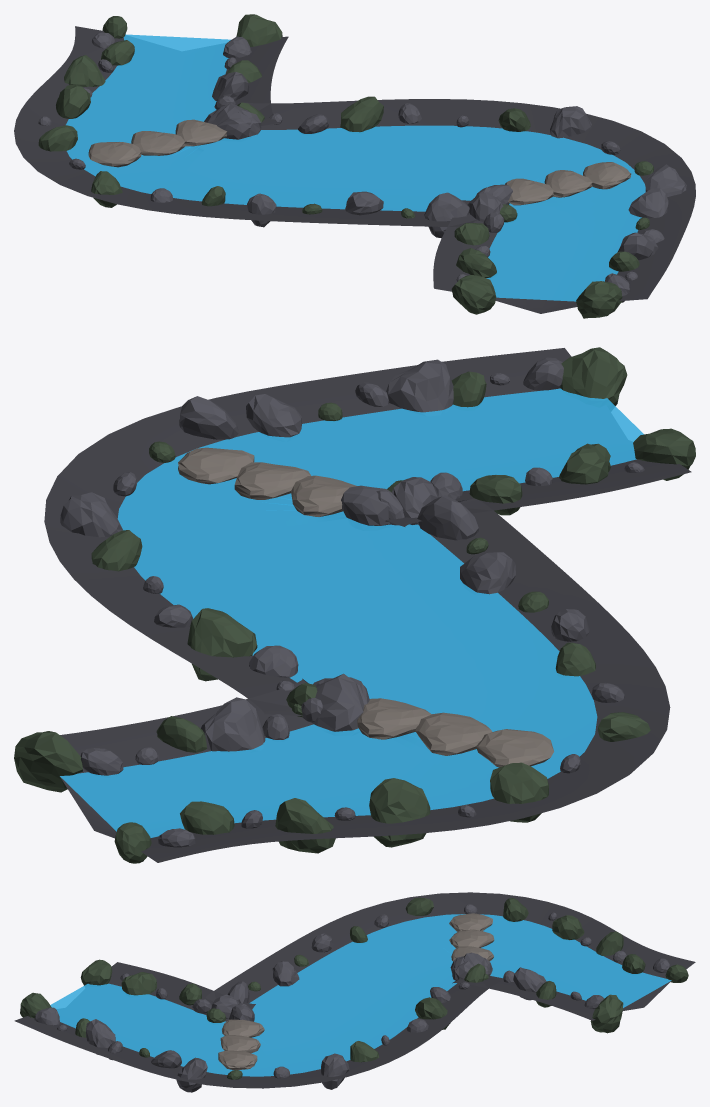
File: stream_straight_01.glb
3 renders of one model, top to bottom at view 1: azimuth 30°, elevation 25°; view 2: azimuth 150°, elevation 25°; view 3: azimuth 270°, elevation 25°, orthographic. The views are drawn at different scales.
Visible parts, largest first — view 1: Stream_Meandering_S_Curve; view 2: Stream_Meandering_S_Curve; view 3: Stream_Meandering_S_Curve.
Boxes of the visible parts, bbox=[...] form: Stream_Meandering_S_Curve: bbox=[14, 14, 695, 318]; Stream_Meandering_S_Curve: bbox=[14, 347, 695, 863]; Stream_Meandering_S_Curve: bbox=[14, 892, 695, 1092].
Size of the model in its own units: 8.82 by 0.7407 by 12.97.
